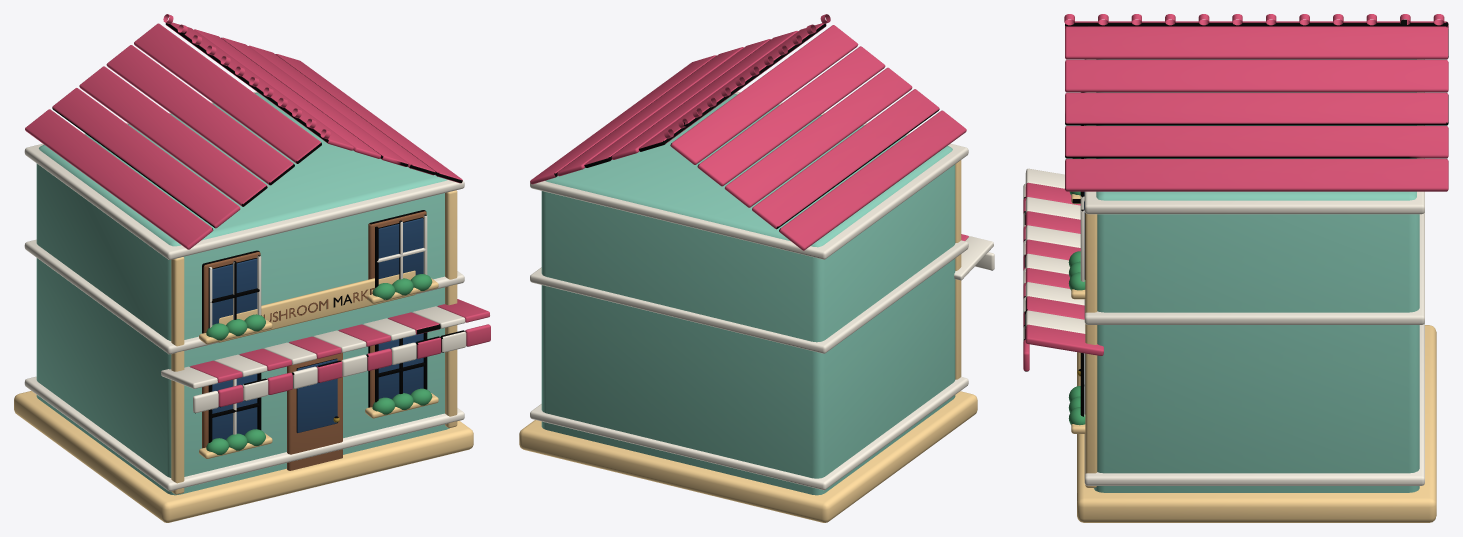
The model's file is village.glb.
The picture shows the model from 3 angles, left to right: view 1: azimuth 30°, elevation 25°; view 2: azimuth 150°, elevation 25°; view 3: azimuth 270°, elevation 25°; orthographic projection. The views are drawn at different scales.
Visible parts, largest first — view 1: shop-stucco, shop-foundation, roof-tile.001, roof-tile.003, roof-tile.002, roof-tile.004, roof-tile, shop-cornice.002, shop-cornice, shop-sign-board, corner-stone, shop-cornice.001 (+27 smaller); view 2: shop-stucco, shop-foundation, roof-tile.001, roof-tile.002, roof-tile.004, roof-tile.003, roof-tile, shop-cornice.002, shop-cornice, shop-cornice.001, roof-tile.009, roof-tile.008 (+5 smaller); view 3: shop-stucco, shop-foundation, roof-tile.005, roof-tile.006, roof-tile.007, roof-tile.008, roof-tile.009, shop-cornice, shop-cornice.002, shop-cornice.001, corner-stone.001, roof-tile (+12 smaller).
Part boxes in pixels (<box>): shop-stucco: <box>36,92,449,495</box>; shop-foundation: <box>14,391,473,522</box>; roof-tile.001: <box>106,45,294,185</box>; roof-tile.003: <box>52,88,240,228</box>; roof-tile.002: <box>79,66,267,206</box>; roof-tile.004: <box>25,109,213,249</box>; roof-tile: <box>134,23,321,163</box>; shop-cornice.002: <box>24,91,464,259</box>; shop-cornice: <box>24,376,464,491</box>; shop-sign-board: <box>218,270,415,342</box>; corner-stone: <box>171,257,184,494</box>; shop-cornice.001: <box>24,239,464,354</box>; shop-stucco: <box>541,93,955,495</box>; shop-foundation: <box>519,391,977,522</box>; roof-tile.001: <box>697,46,885,186</box>; roof-tile.002: <box>724,67,912,207</box>; roof-tile.004: <box>779,110,966,250</box>; roof-tile.003: <box>752,89,939,229</box>; roof-tile: <box>670,25,858,164</box>; shop-cornice.002: <box>530,91,968,259</box>; shop-cornice: <box>530,377,968,490</box>; shop-cornice.001: <box>530,240,968,353</box>; roof-tile.009: <box>530,55,716,184</box>; roof-tile.008: <box>557,47,743,176</box>; shop-stucco: <box>1094,59,1419,492</box>; shop-foundation: <box>1077,325,1436,522</box>; roof-tile.005: <box>1065,27,1448,59</box>; roof-tile.006: <box>1065,60,1448,92</box>; roof-tile.007: <box>1065,93,1448,125</box>; roof-tile.008: <box>1065,126,1448,158</box>; roof-tile.009: <box>1065,159,1448,191</box>; shop-cornice: <box>1084,322,1424,485</box>; shop-cornice.002: <box>1084,59,1424,214</box>; shop-cornice.001: <box>1084,212,1424,324</box>; corner-stone.001: <box>1085,213,1097,487</box>; roof-tile: <box>1065,21,1448,27</box>.
Size of the model in its own units: 8.8 by 9.74 by 8.87.
Materials: 8 (8 with a texture image).
